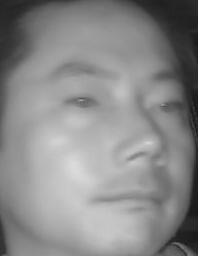eye: (64, 91, 101, 113), (149, 96, 183, 117)
mouth: (93, 179, 169, 218)
